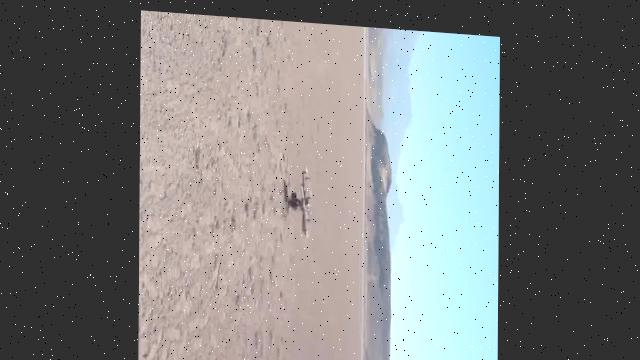drone: (256, 135, 332, 253)
